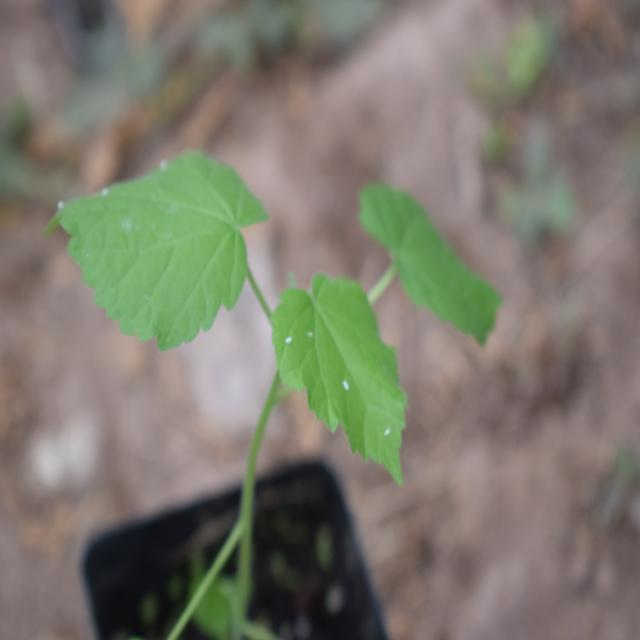abutilon theophrasti: (46, 125, 522, 515)
